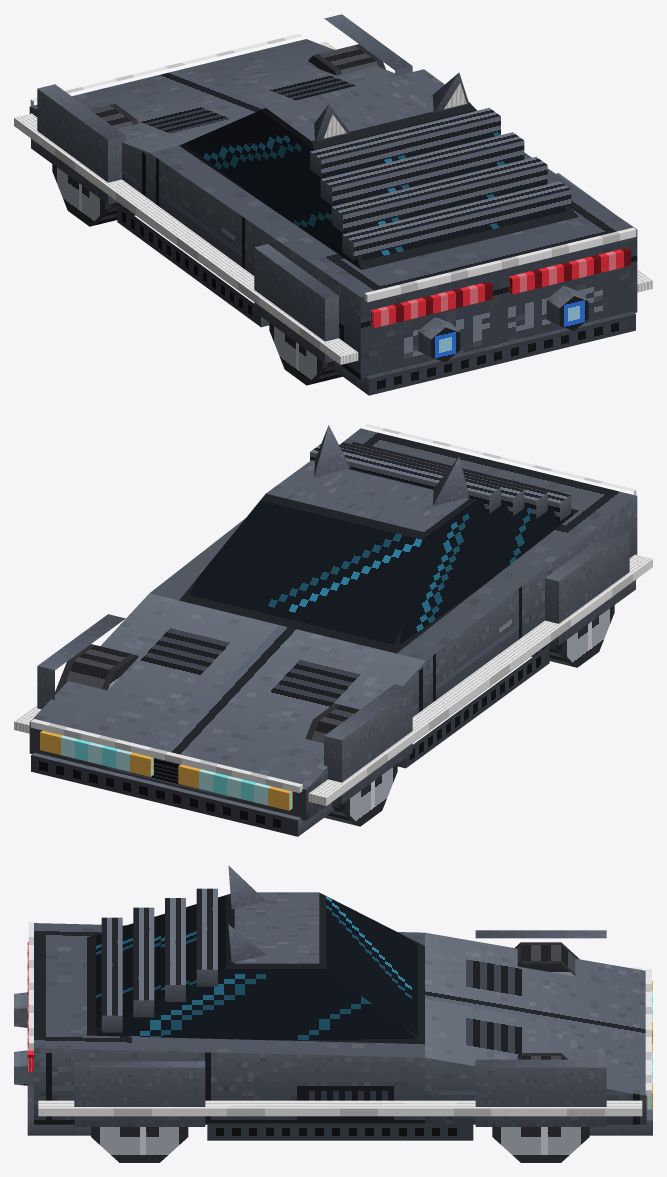
File: getaway_car.glb
3 renders of one model, top to bottom at view 1: azimuth 30°, elevation 25°; view 2: azimuth 150°, elevation 25°; view 3: azimuth 270°, elevation 25°, orthographic. The views are drawn at different scales.
Visible parts, largest first — view 1: Body, Trim, Thrusters, WheelFL, TaillightL, TaillightR, WheelBL, WheelFR; view 2: Body, Trim, WheelFL, HeadlightL, HeadlightR, WheelFR, WheelBL; view 3: Body, Trim, WheelFR, WheelBR, WheelFL, Thrusters.
Boxes of the visible parts, x1,y1,x2,y2 form: Body: (29,14,637,395); Trim: (14,33,652,364); Thrusters: (418,285,588,362); WheelFL: (52,103,138,226); TaillightL: (370,281,492,328); TaillightR: (509,247,630,294); WheelBL: (269,323,342,385); WheelFR: (305,44,385,75); Body: (29,425,637,836); Trim: (14,424,652,805); WheelFL: (305,703,397,826); HeadlightL: (178,764,292,810); HeadlightR: (40,730,153,776); WheelFR: (55,644,138,694); WheelBL: (531,605,614,667); Body: (27,865,652,1140); Trim: (28,922,651,1116); WheelFR: (492,1053,589,1162); WheelBR: (91,1127,188,1162); WheelFL: (515,942,579,976); Thrusters: (14,992,33,1086).
Bounding box in the file's own units: 1.98 × 1.32 × 3.78.
Materials: 1 (1 with a texture image).
